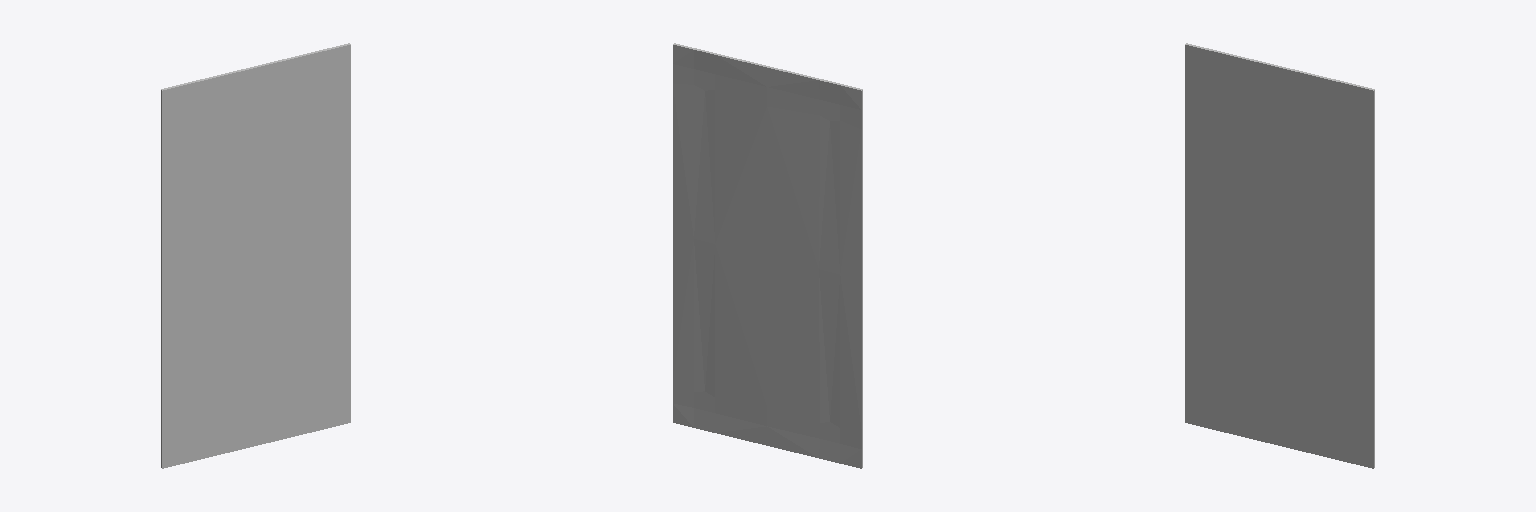
The model's file is Tabletopfixedrender.obj.
3 views of the same model, side by side, from view 1: azimuth 30°, elevation 25°; view 2: azimuth 150°, elevation 25°; view 3: azimuth 330°, elevation 25° (orthographic).
Visible parts, largest first — view 1: Cube.015; view 2: Cube.015; view 3: Cube.015.
Boxes of the visible parts, x1=… form: Cube.015: x1=161, y1=43, x2=350, y2=468; Cube.015: x1=673, y1=43, x2=862, y2=468; Cube.015: x1=1185, y1=43, x2=1374, y2=468.
Bounding box in the file's own units: 0.5744 × 1.1 × 0.0096.